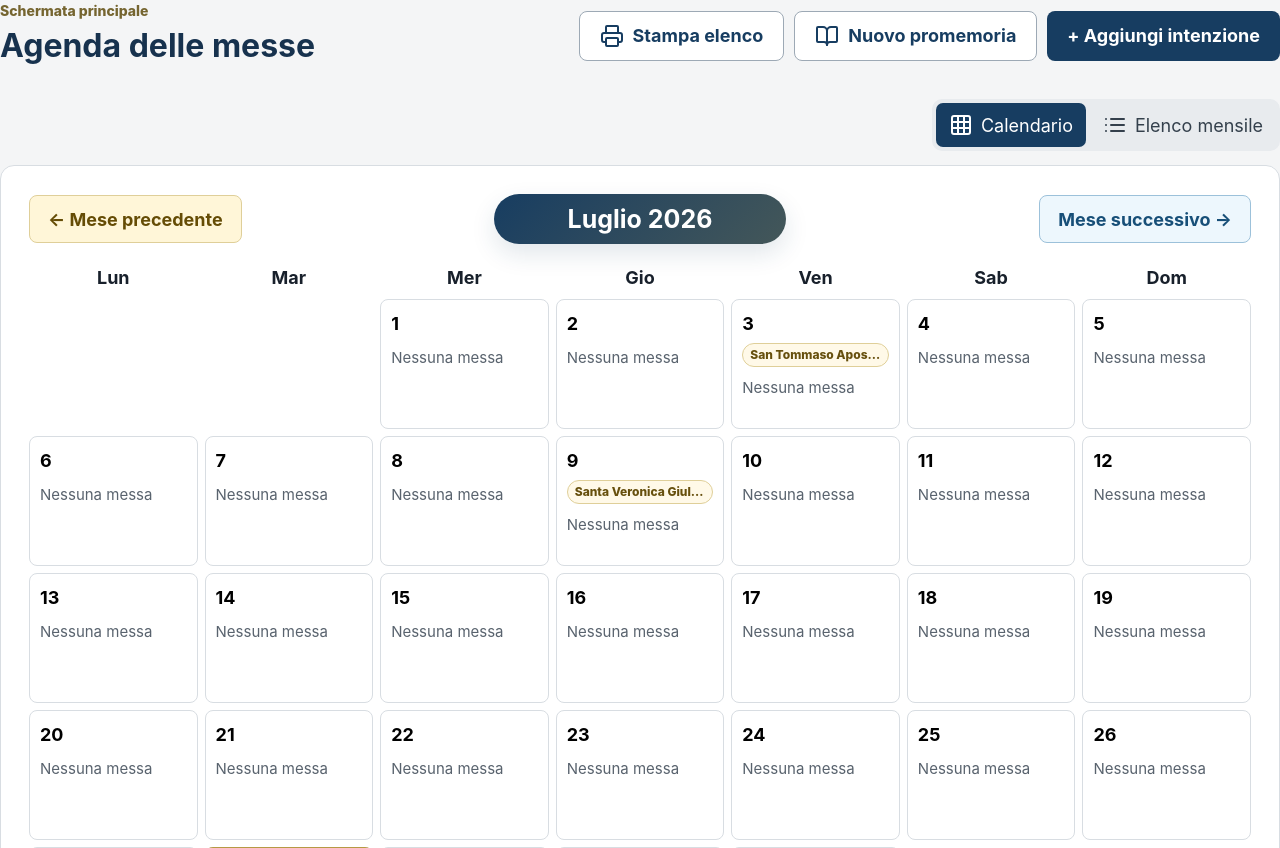
Test case: promemoria celebrazione messe › blocca il promemoria quando manca la persona ricordata
This screenshot has width=1280, height=848.
Click the button "Nuovo promemoria" at (916, 36), box x1=794 y1=11 x2=1037 y2=61
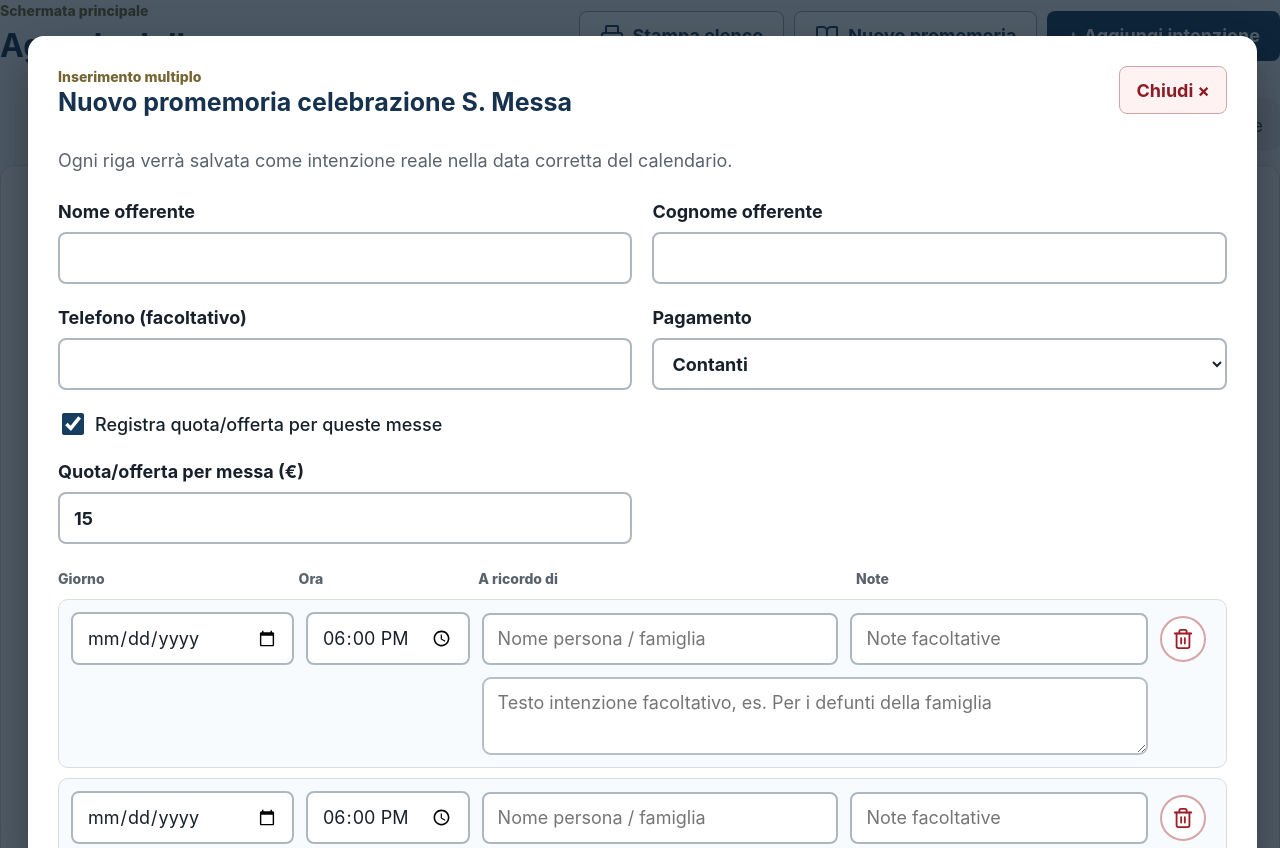
Type "Don" into the field labelled "Nome offerente" at (345, 258), box x1=58 y1=232 x2=632 y2=284
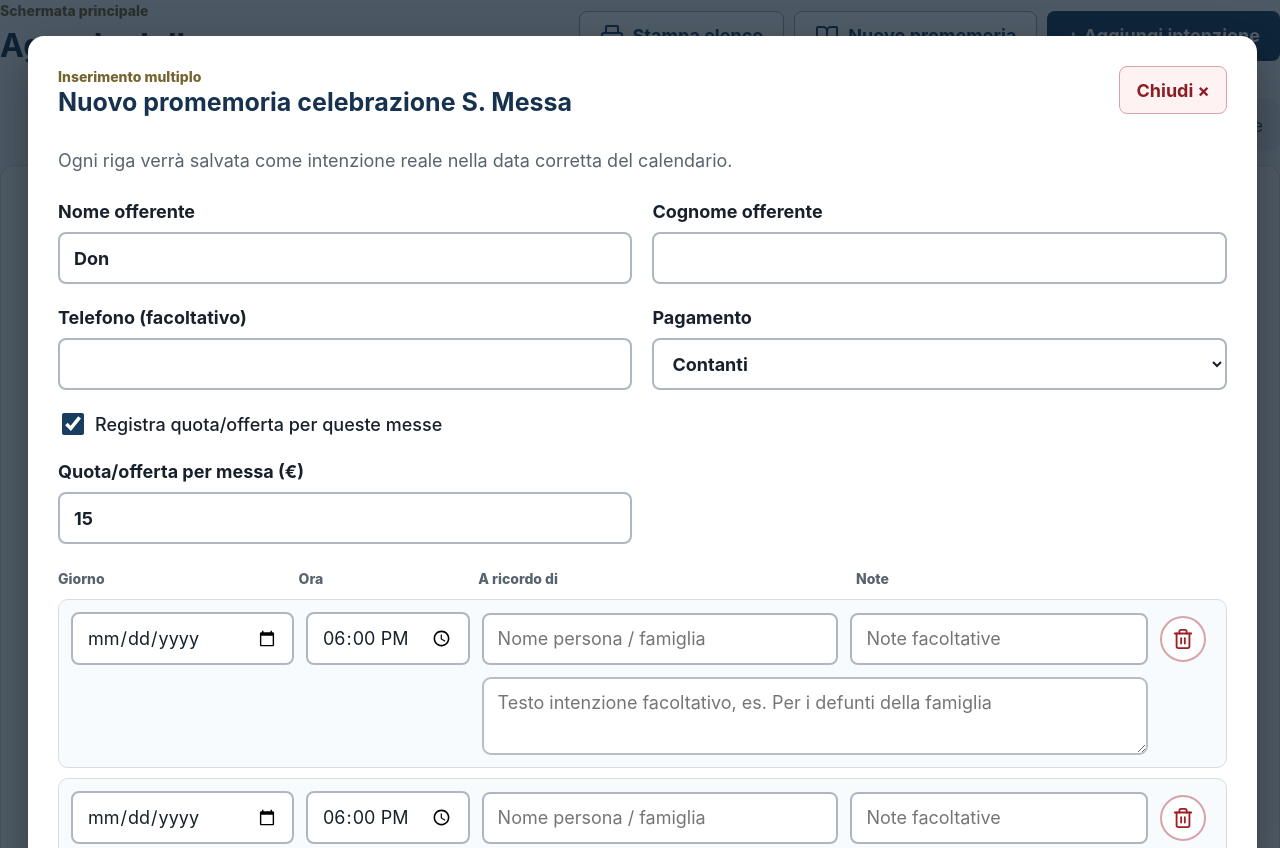
Type "2027-04-15" into the date field named "giorno riga 1" at (182, 638), box x1=71 y1=612 x2=294 y2=665
(page scrolled)
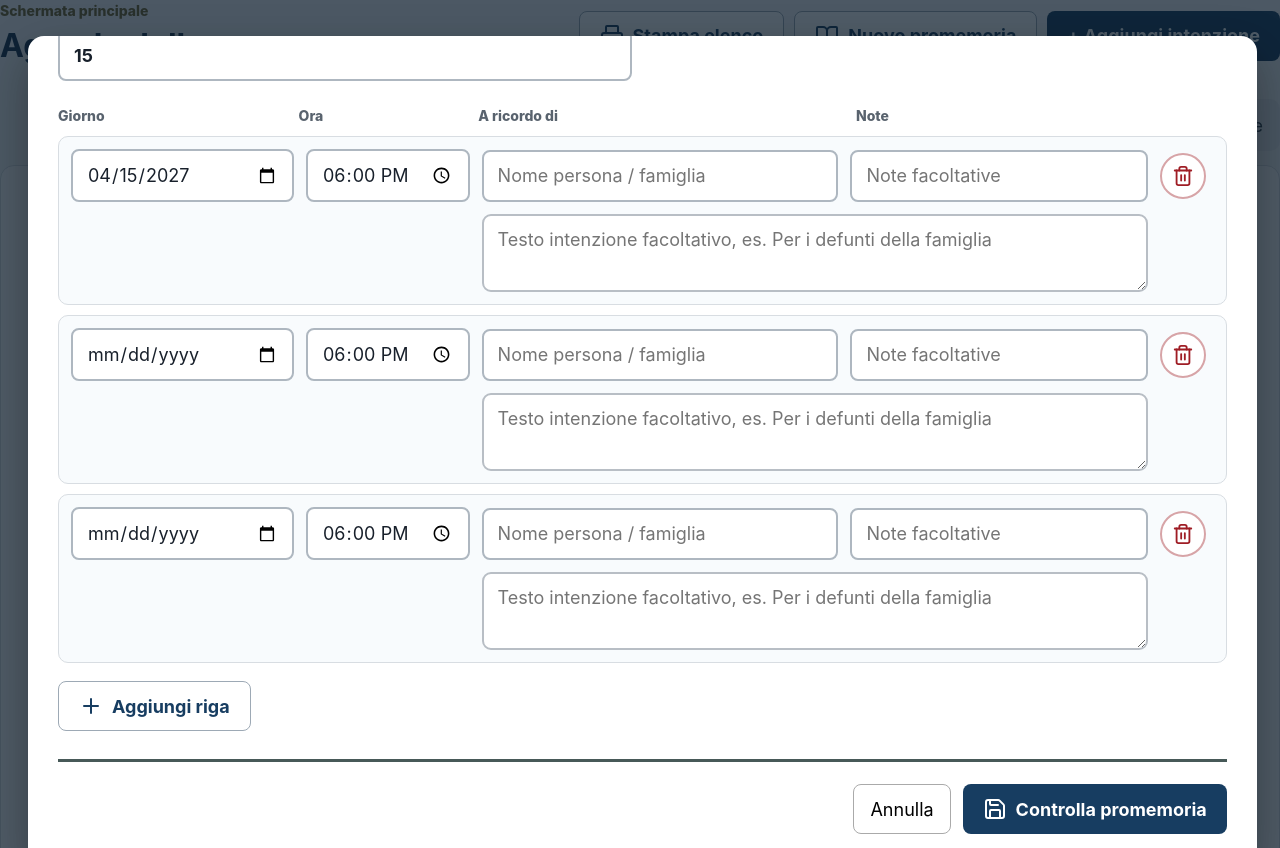
Click the button "Controlla promemoria" at (1095, 809), box x1=963 y1=784 x2=1227 y2=834
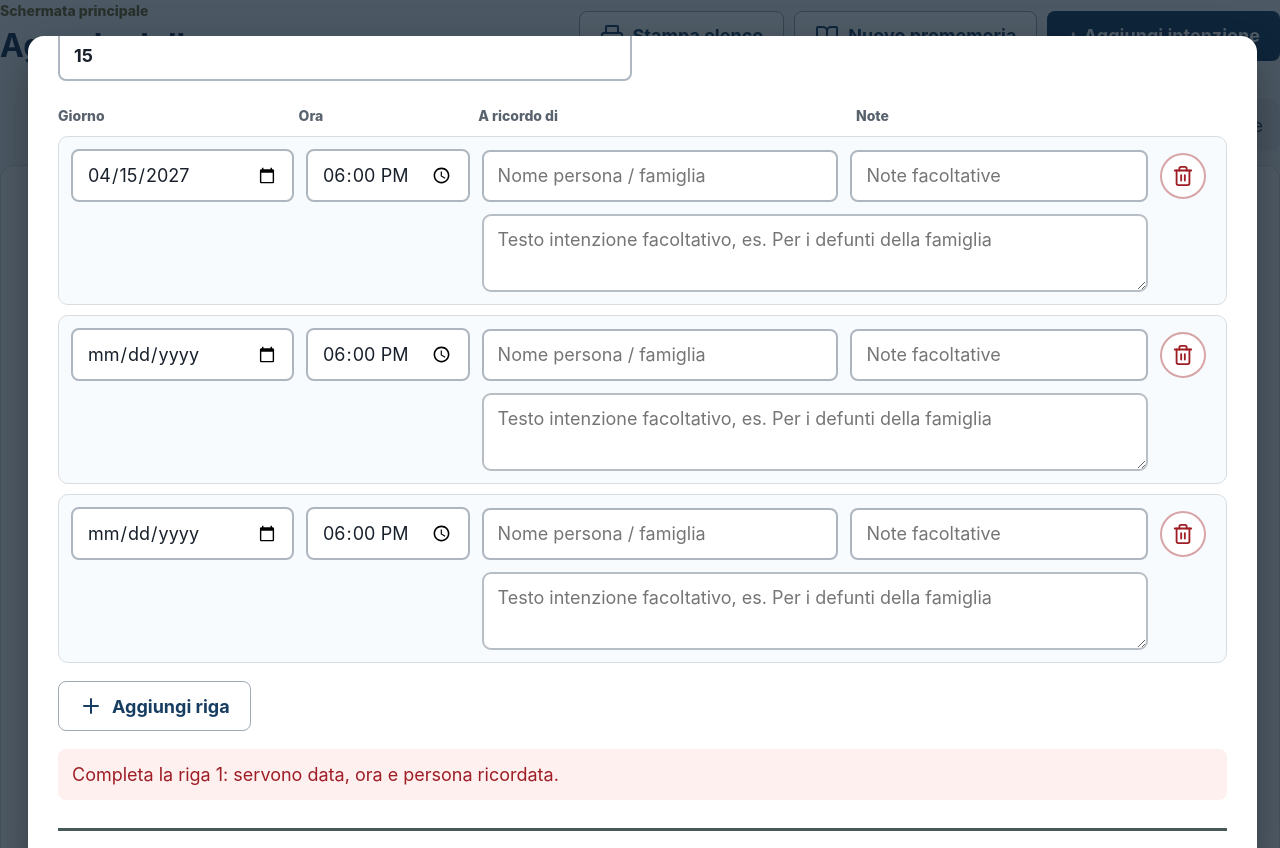
Result: the message shows "servono data, ora e persona ricordata" at x1=72 y1=764 x2=559 y2=785
